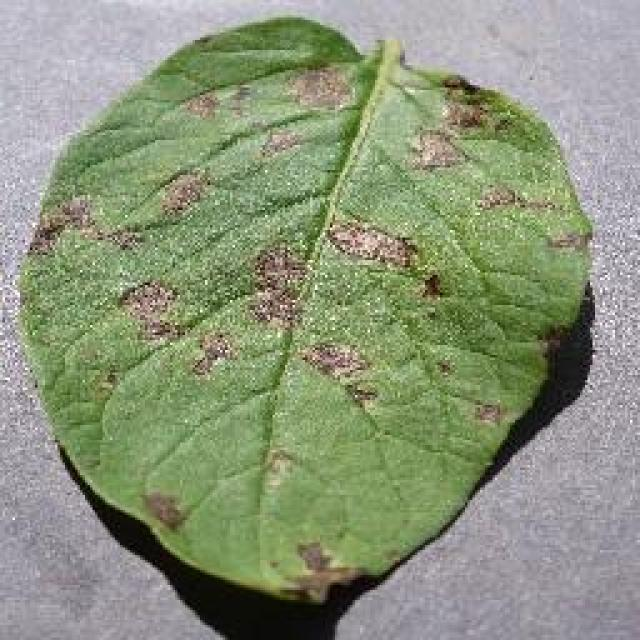Potato___Early_blight: (9, 13, 600, 611)
